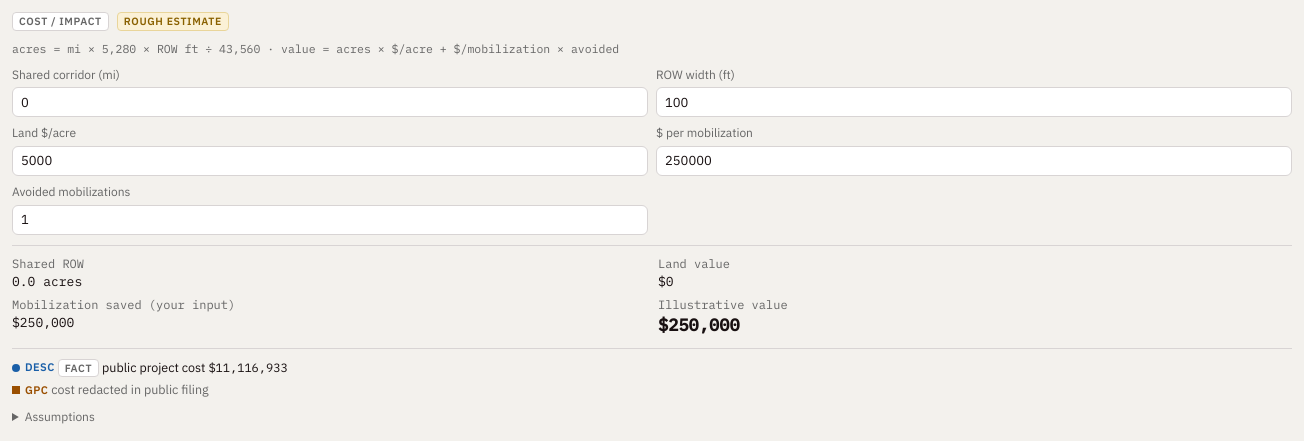
it: cost estimator recomputes when an assumption is edited
This screenshot has width=1304, height=441.
Expected: the text "ROUGH ESTIMATE" is shown, [117, 12, 229, 31]
Expected: the text with test id "estimate-total" reads "$250,000", [658, 314, 740, 336]
Replace the text in the number field labelled "Shared corridor (mi)" with "1" at (330, 102), box [12, 88, 648, 118]
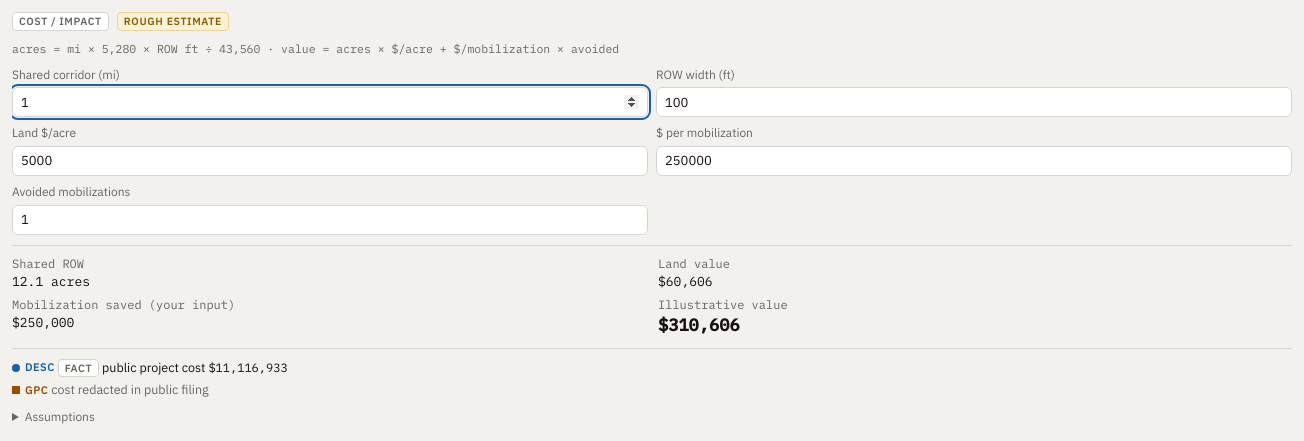
Expected: the text "cost redacted in public filing" is shown, [51, 381, 209, 397]
Expected: the text with test id "estimate-total" reads "$310,606", [658, 314, 740, 336]
